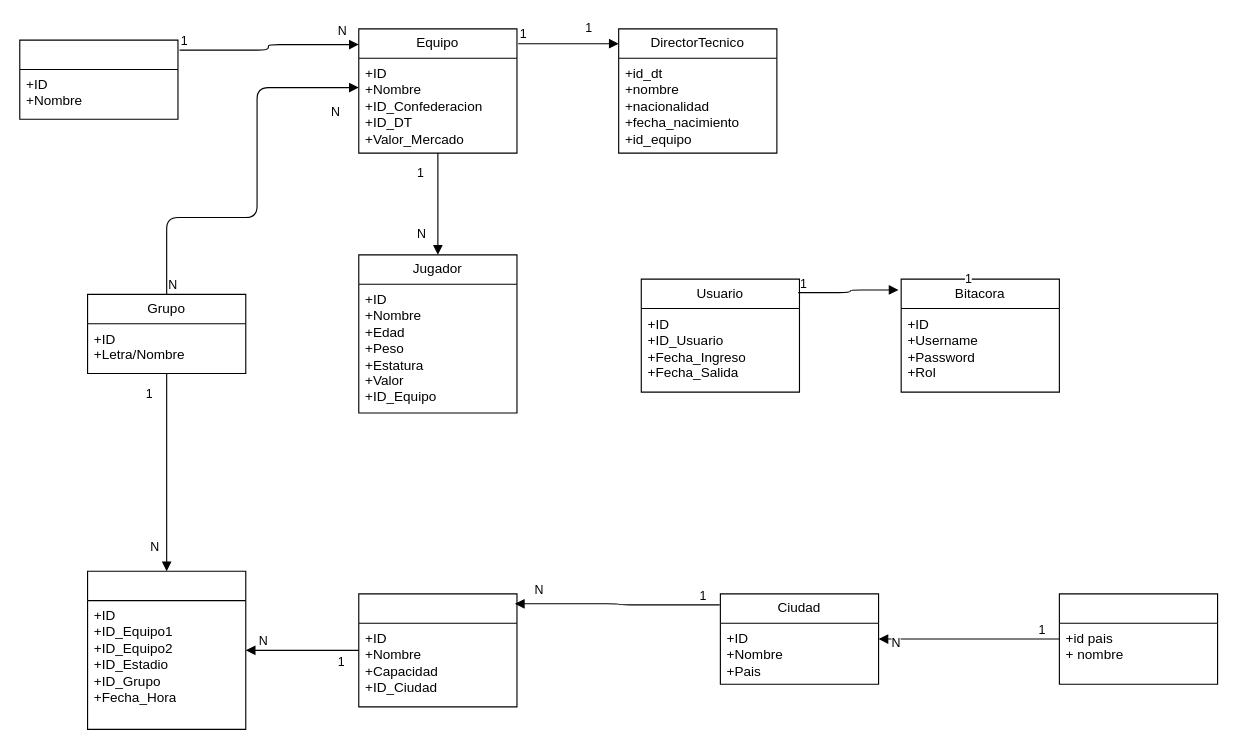
Some shapes in this 1237 by 753 pixel diagram are drawn without their labels. Each missing label, with the box of its shape:
Confederacion: (19, 39, 178, 119)
Estadio: (358, 593, 517, 707)
PaisAnfitrion: (1058, 593, 1218, 684)
Partido: (86, 570, 246, 729)
